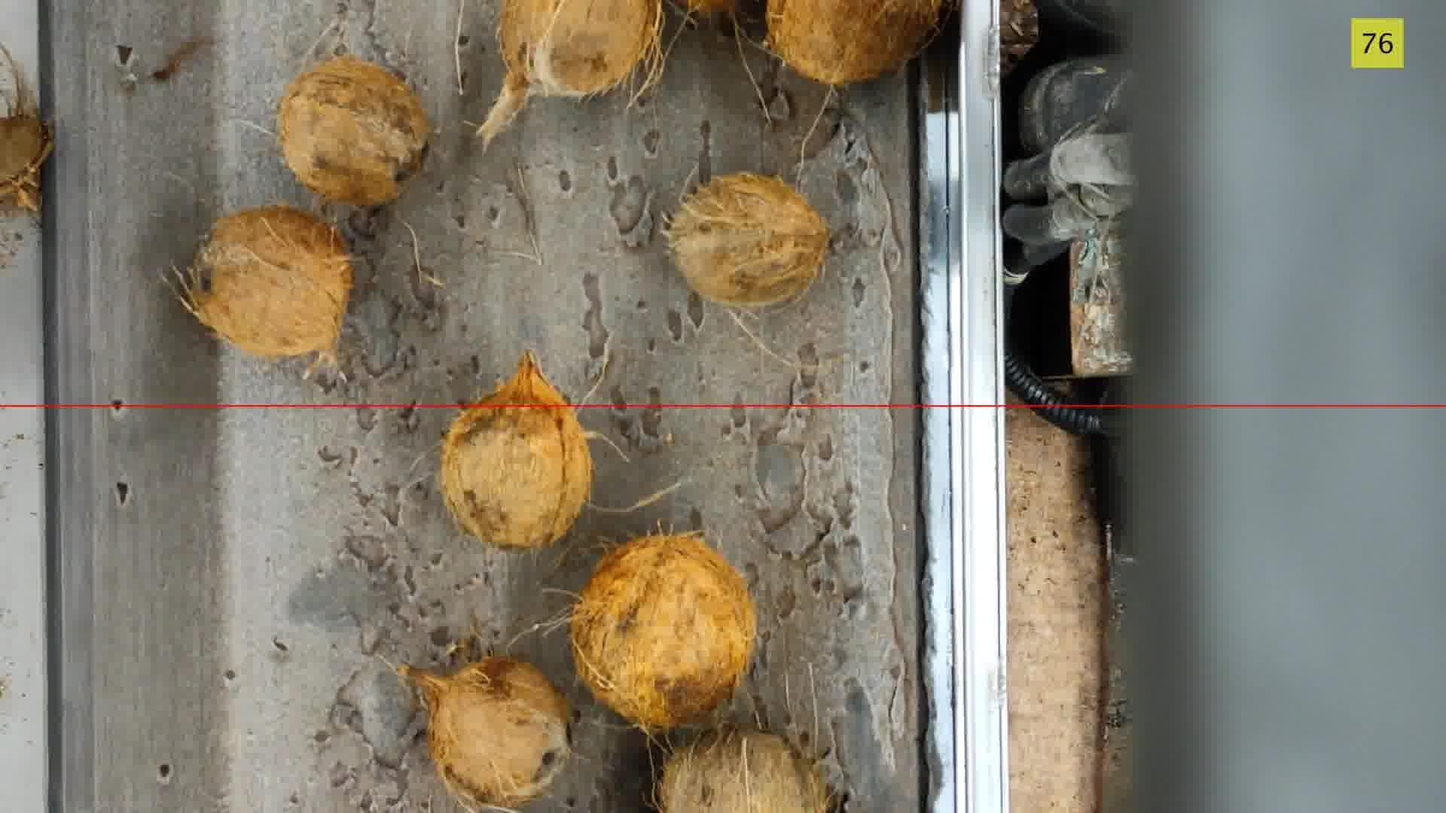Coconut: (569, 533, 756, 732), (440, 352, 592, 549), (477, 0, 663, 148), (181, 204, 352, 363), (397, 657, 571, 807), (277, 56, 432, 206), (663, 172, 831, 308), (766, 0, 950, 85), (654, 728, 833, 812), (0, 45, 53, 211), (683, 0, 737, 14)
